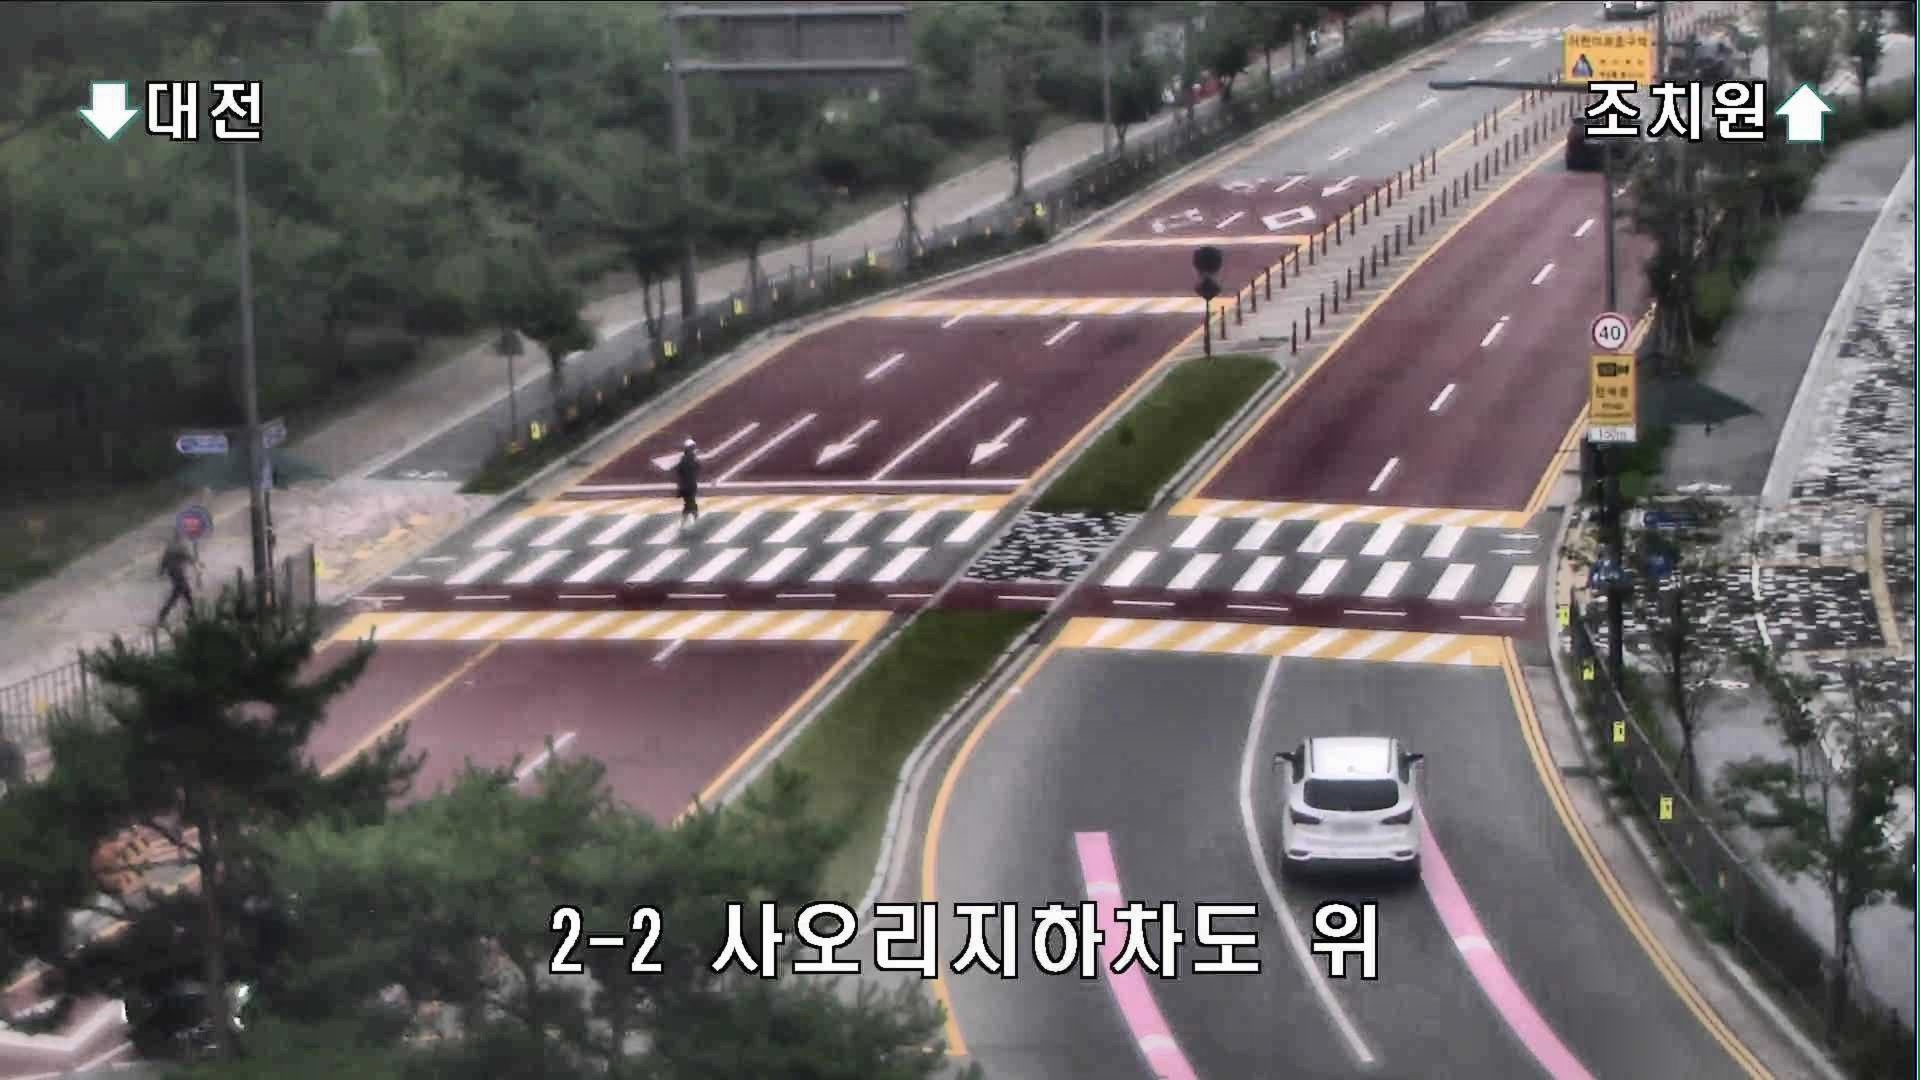crosswalk: (667, 436, 720, 535)
sidewalk: (149, 518, 204, 629)
